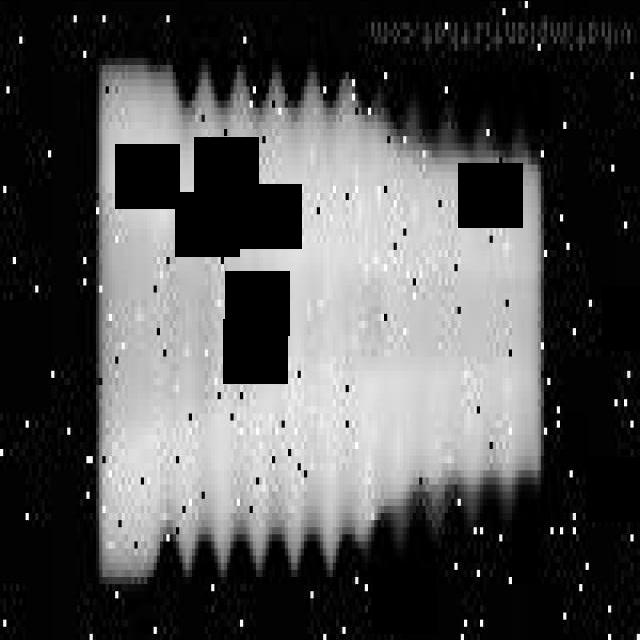Retained root: (99, 57, 550, 586)
